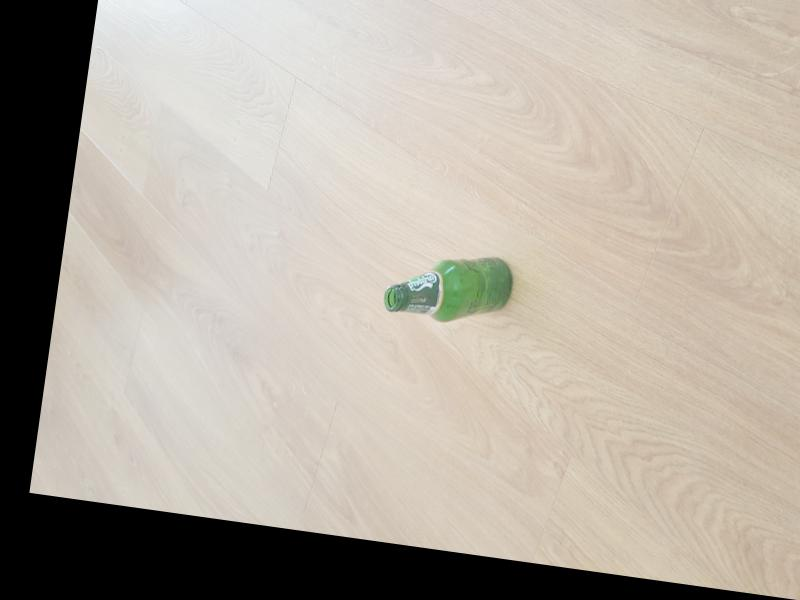Beer: (380, 241, 516, 331)
